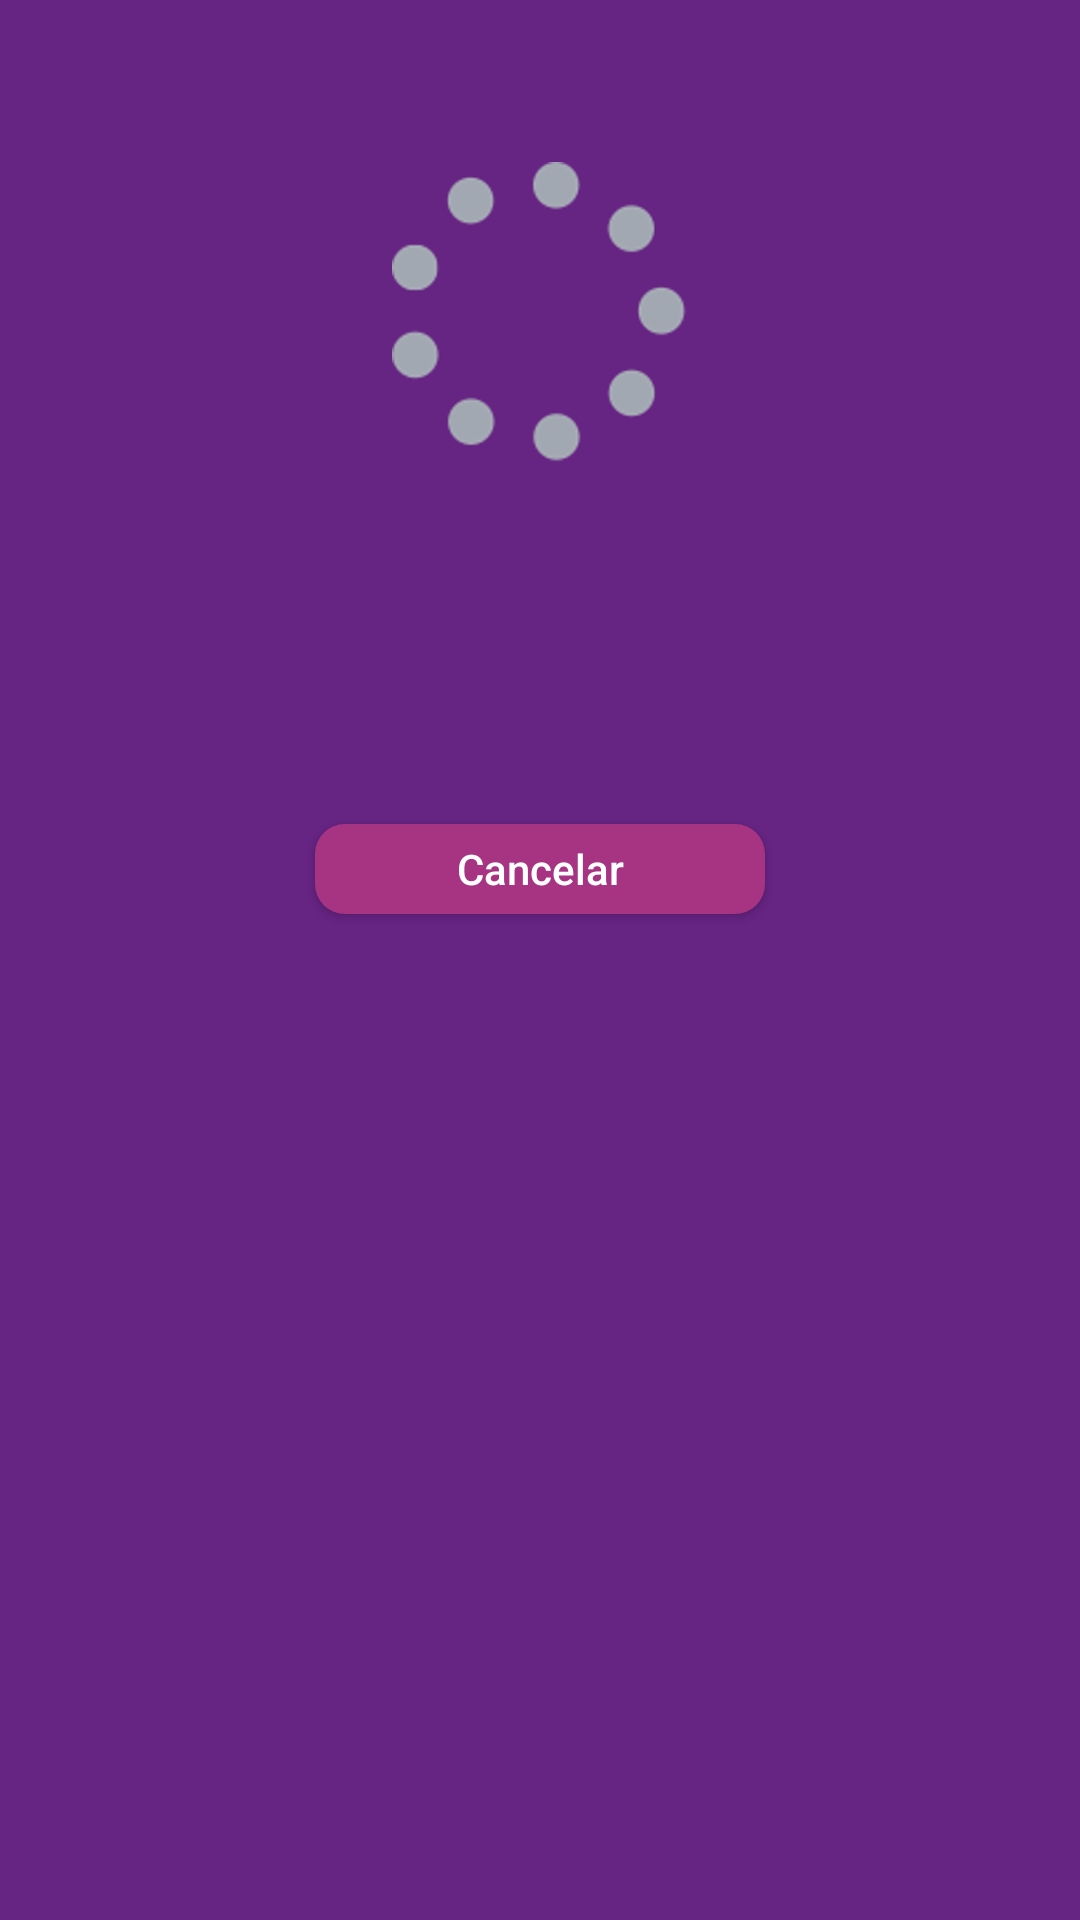

Where icons sit on this 1080×1920 app screen, as (x1, y1, x2, y2):
progress bar: (392, 162, 685, 461)
